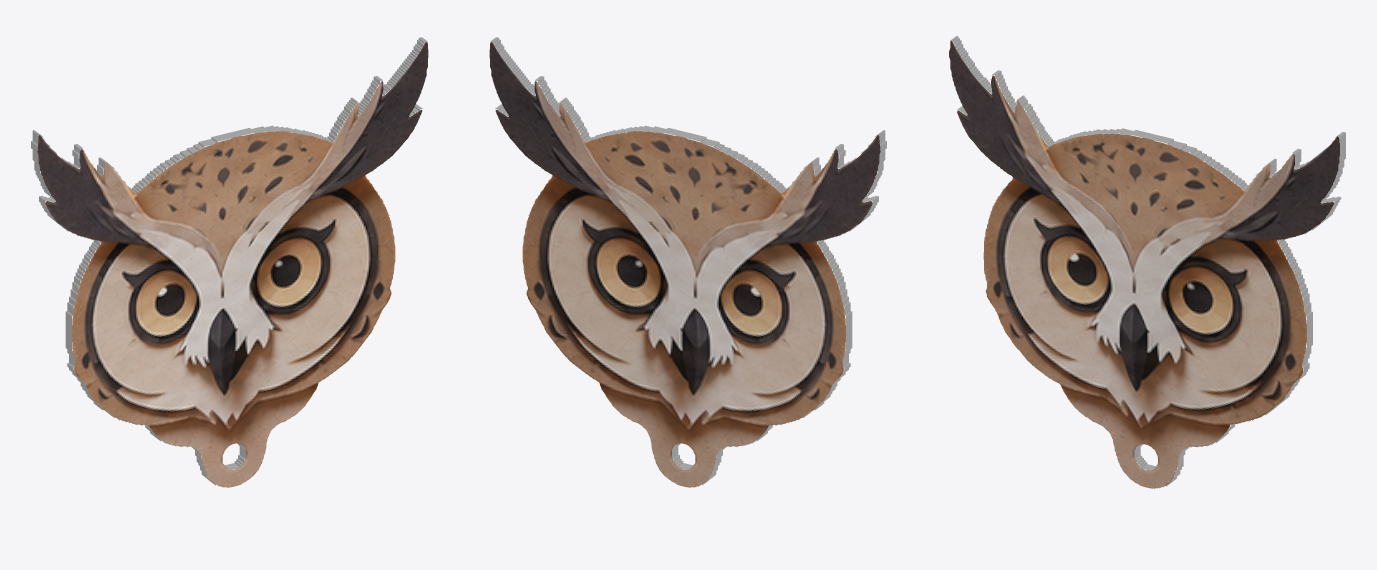
The model's file is HeadMain.glb.
3 views of the same model, side by side, from view 1: azimuth 30°, elevation 25°; view 2: azimuth 150°, elevation 25°; view 3: azimuth 330°, elevation 25° (orthographic).
Parts seen in each view (by area): view 1: PaperVolume; view 2: PaperVolume; view 3: PaperVolume.
Part boxes in pixels (bbox=[...]): PaperVolume: bbox=[31, 37, 428, 487]; PaperVolume: bbox=[489, 37, 886, 487]; PaperVolume: bbox=[949, 36, 1345, 488].
Bounding box in the file's own units: 3.12 × 3.05 × 0.08.
3 materials, 2 textured.
